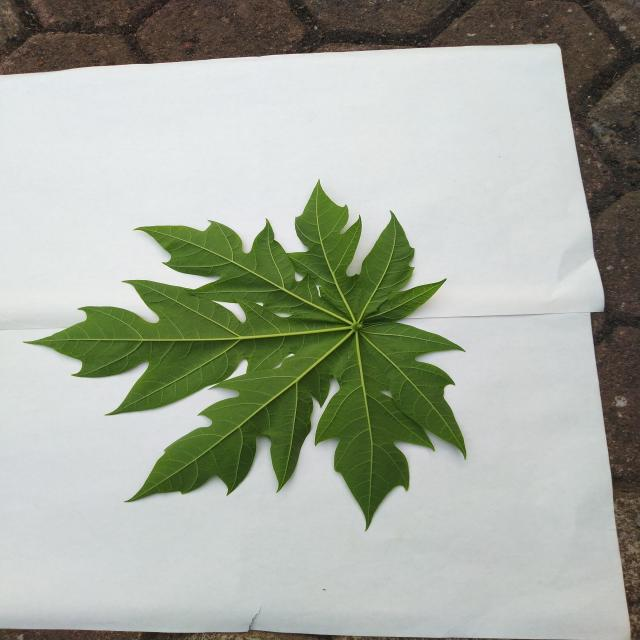papaya: (32, 184, 465, 526)
